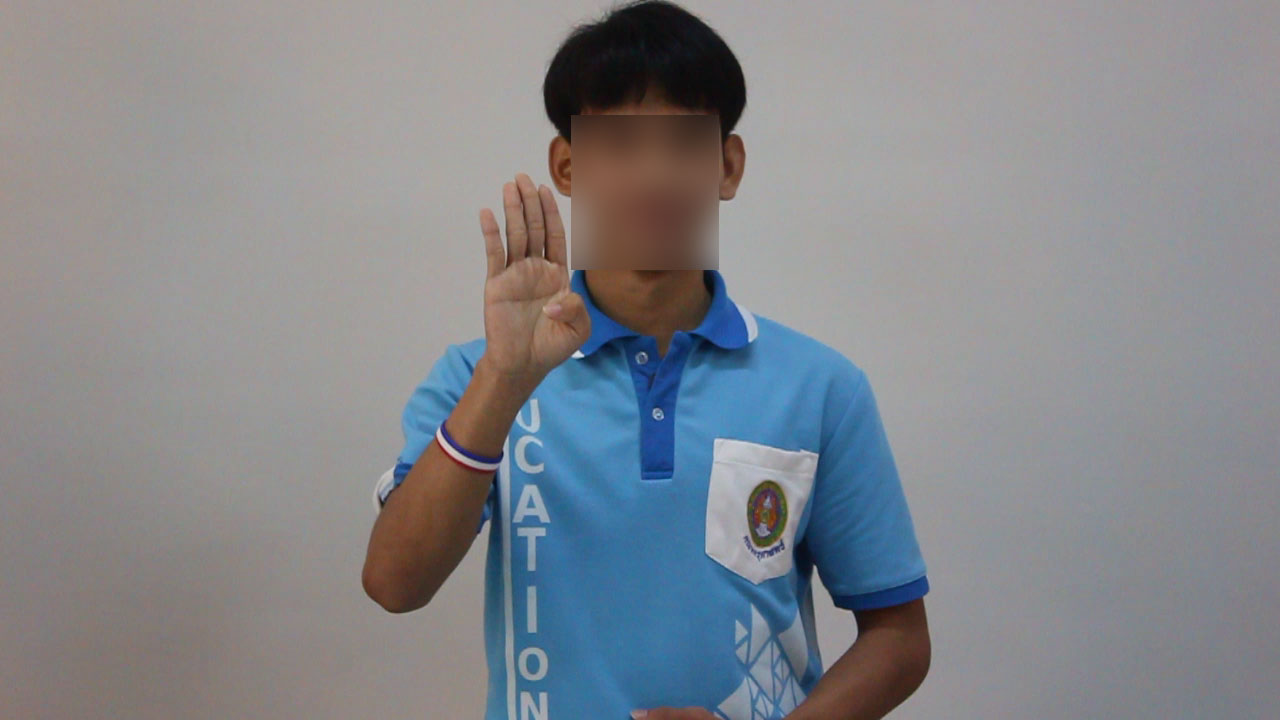bor: (462, 155, 606, 405)
